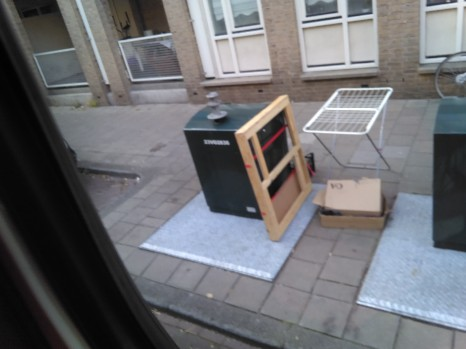Container: (188, 94, 265, 220), (436, 122, 466, 250)
Papier: (327, 184, 401, 246)
Rest: (261, 89, 293, 248), (331, 95, 394, 162)
